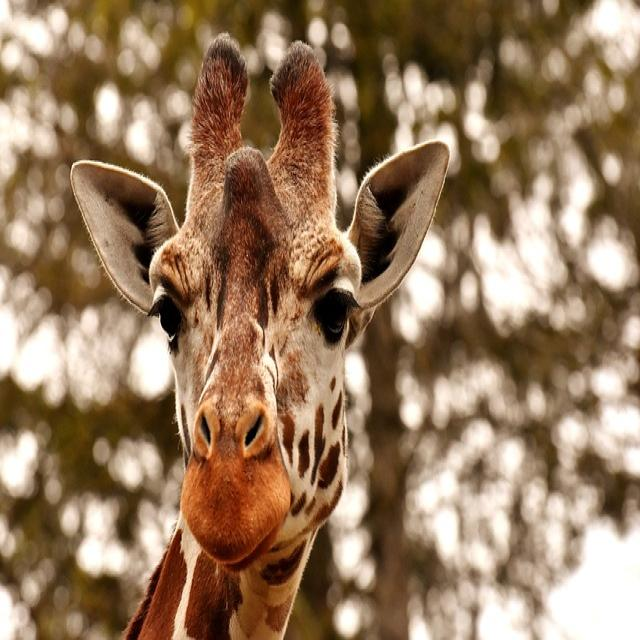Herbivorous: (69, 34, 450, 640)
